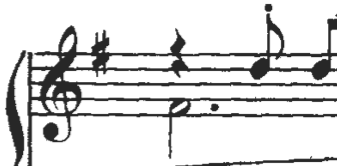sharp: (86, 22, 118, 82)
treble_clef: (35, 19, 84, 157)
